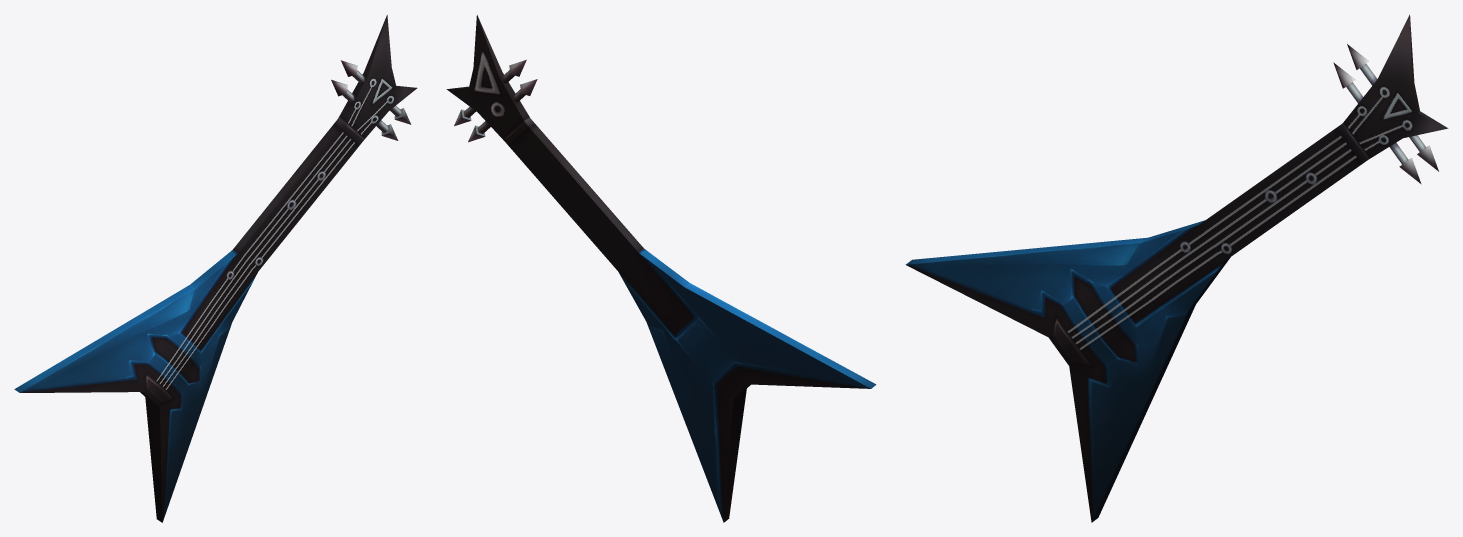
The picture shows the model from 3 angles, left to right: view 1: azimuth 30°, elevation 25°; view 2: azimuth 150°, elevation 25°; view 3: azimuth 330°, elevation 25°; orthographic projection. The views are drawn at different scales.
Parts seen in each view (by area): view 1: 3_Z_14; view 2: 3_Z_14; view 3: 3_Z_14.
Boxes of the visible parts, <box> form: 3_Z_14: <box>14,15,417,522</box>; 3_Z_14: <box>446,15,876,522</box>; 3_Z_14: <box>905,14,1448,522</box>.
Size of the model in its own units: 241 by 21.56 by 249.
